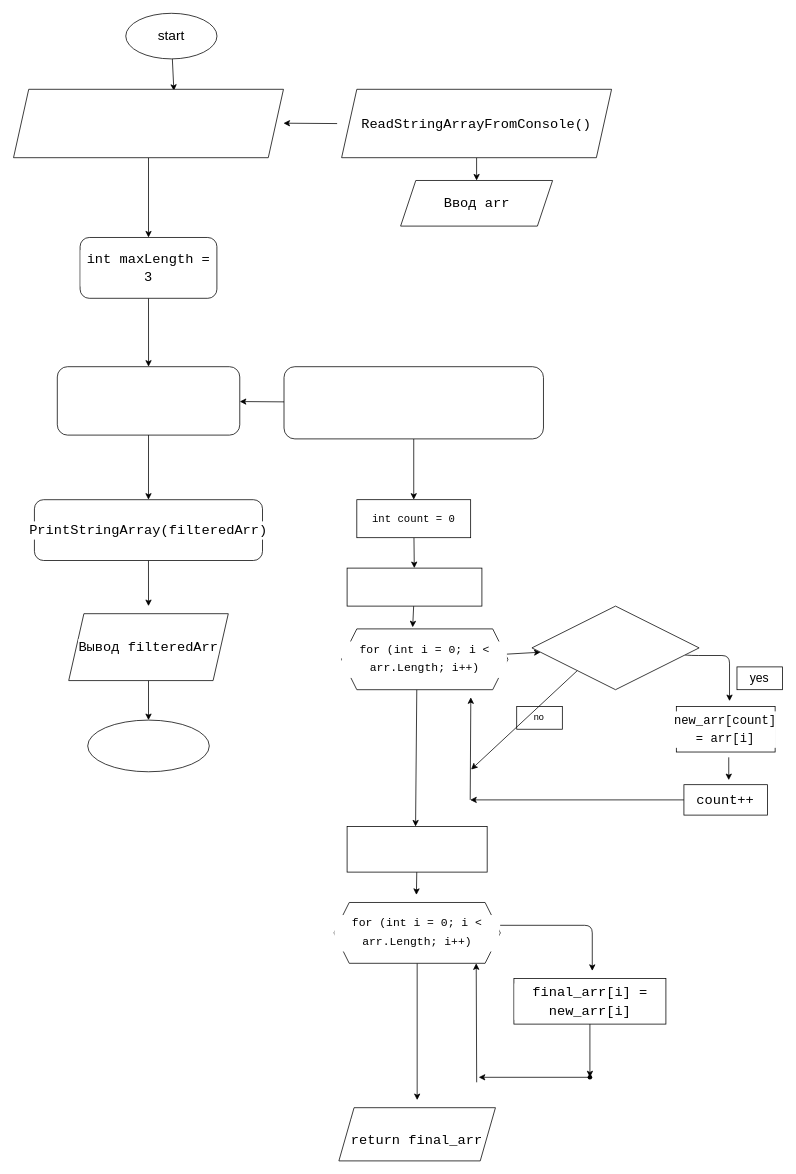
Image size: 796x1174. Some labels were removed from this diagram. The box of each missing label's shape, as (x1, y1, x2, y2) in pixels:
end: (87, 719, 209, 772)
if arr[i] Length <= maxLength: (531, 605, 699, 690)
static string[] FilterShortStrings(string[] arr, int maxLength): (283, 366, 543, 439)
string[] arr = ReadStringArrayFromConsole(): (13, 89, 283, 158)
string[] filteredArr = FilterShortStrings(arr, maxLength): (57, 366, 240, 435)
string[] final_arr: (346, 826, 487, 872)
string[] new_arr: (346, 567, 482, 606)
